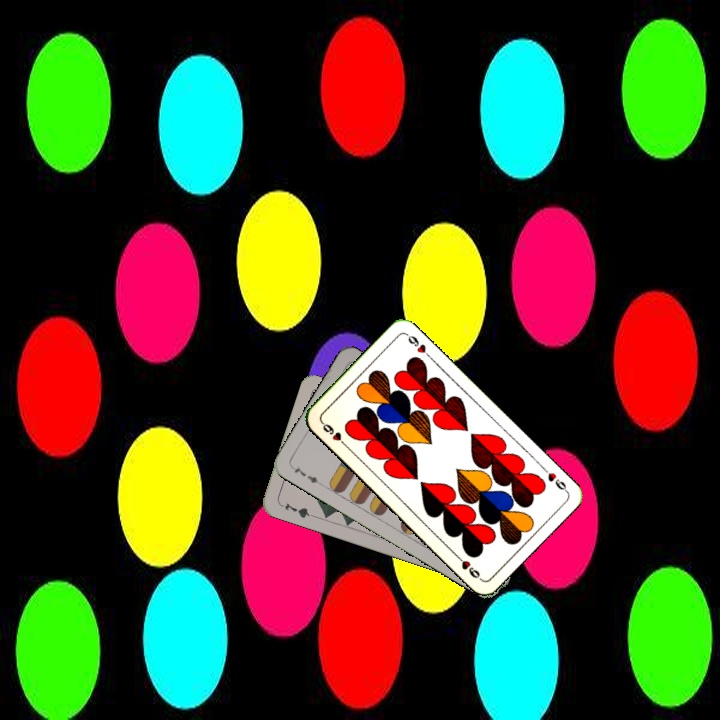E7: (287, 462, 321, 486)
G7: (276, 499, 315, 521)
H9: (537, 462, 570, 494), (317, 417, 349, 449)
